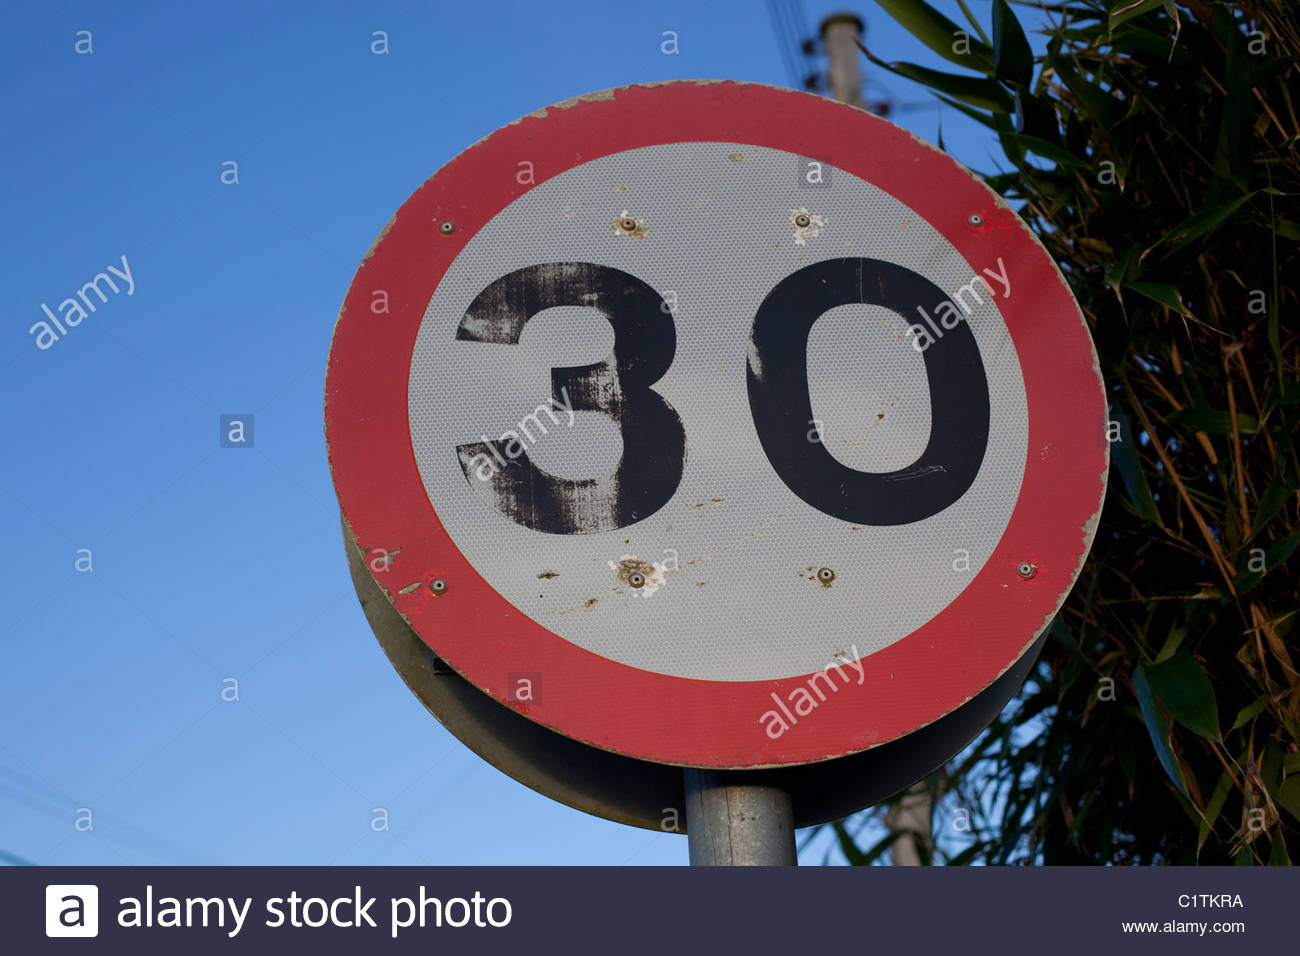Speed_limit_30km: (328, 76, 1111, 767)
